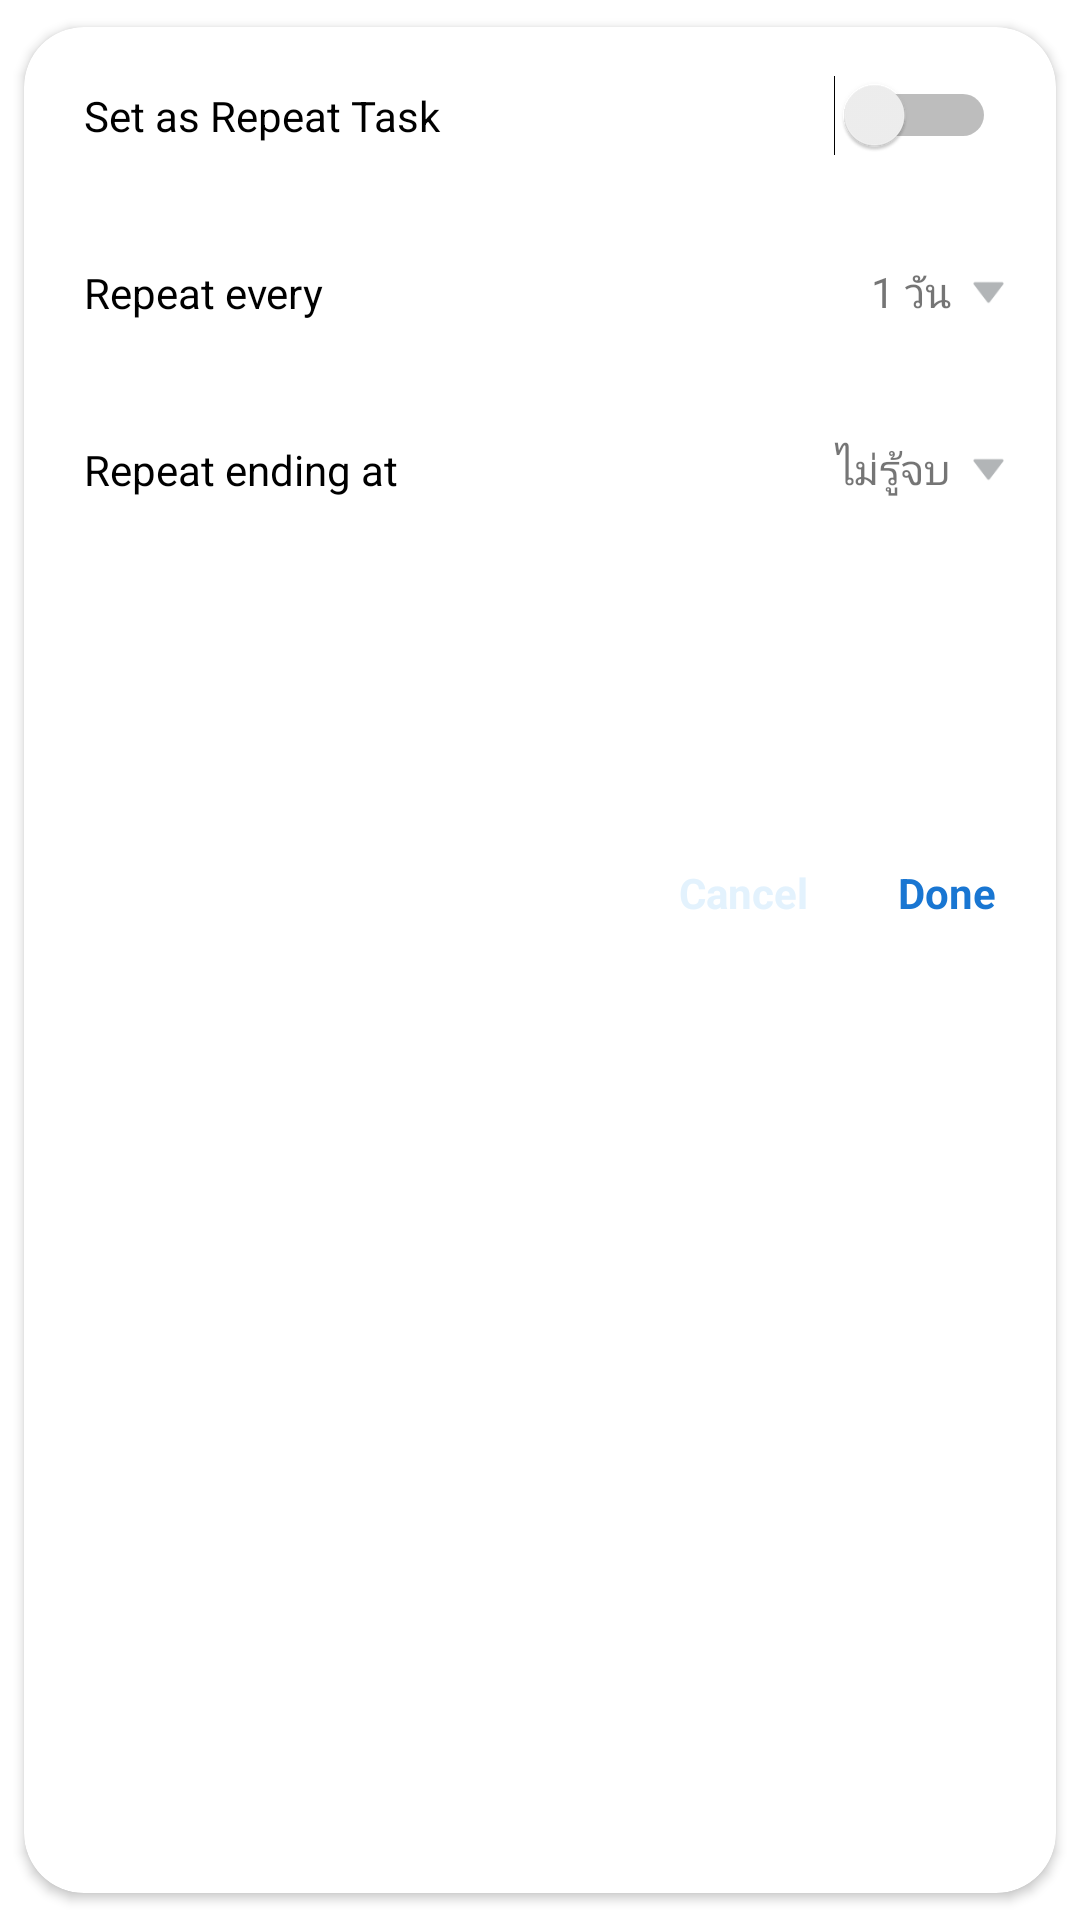

Screen size 1080 x 1920. Icon name, then its center in pixels as [x,y]:
sort down: [988,292], [988,469]
